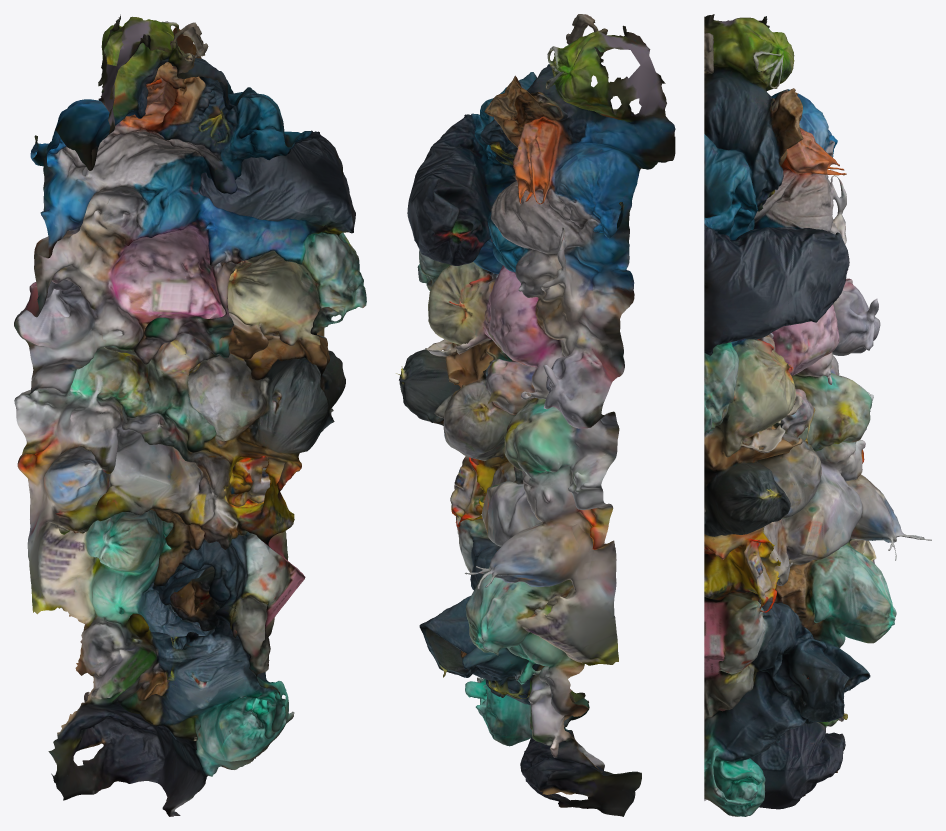
File: trash.fbx
3 views of the same model, side by side, from view 1: azimuth 30°, elevation 25°; view 2: azimuth 150°, elevation 25°; view 3: azimuth 270°, elevation 25° (orthographic). The views are drawn at different scales.
Parts seen in each view (by area): view 1: Long Trash Bag Pile; view 2: Long Trash Bag Pile; view 3: Long Trash Bag Pile.
Boxes of the visible parts, bbox=[...] form: Long Trash Bag Pile: bbox=[14, 14, 366, 816]; Long Trash Bag Pile: bbox=[396, 14, 675, 816]; Long Trash Bag Pile: bbox=[704, 14, 931, 816].
Size of the model in its own units: 151 by 418 by 111.
Materials: 1 (1 with a texture image).
